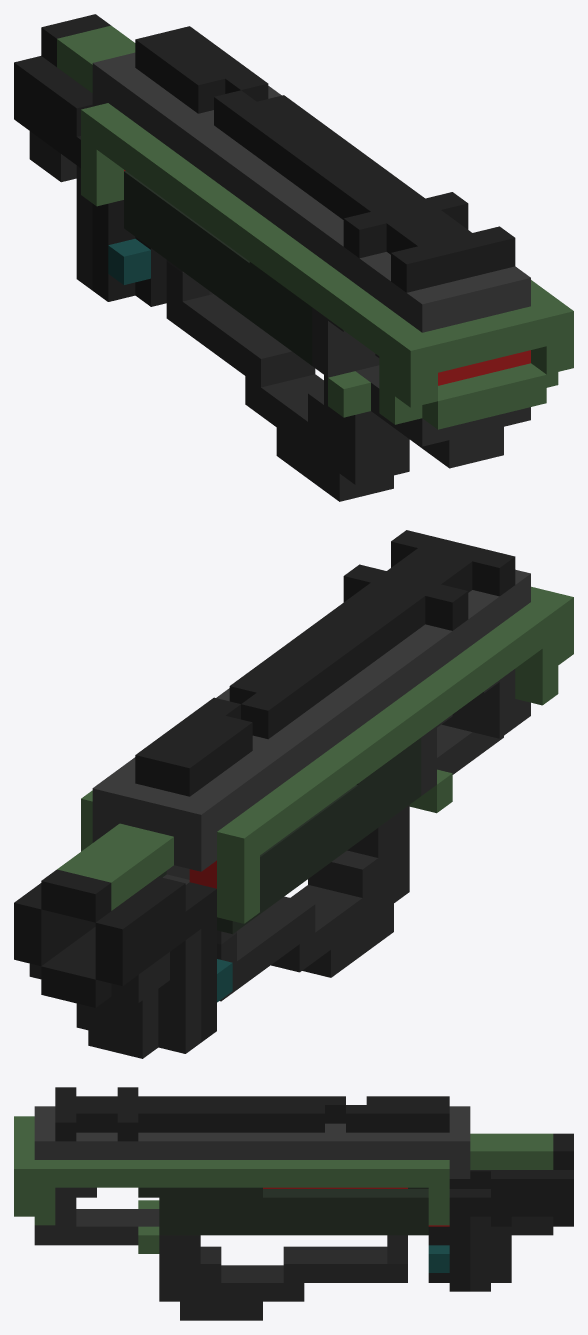
Rendered from gun.obj.
The picture shows the model from 3 angles, top to bottom: view 1: azimuth 30°, elevation 25°; view 2: azimuth 150°, elevation 25°; view 3: azimuth 270°, elevation 25°; orthographic projection. The views are drawn at different scales.
Bounding box in the file's own units: 0.6 × 1.1 × 2.7.
1 material, 1 textured.
